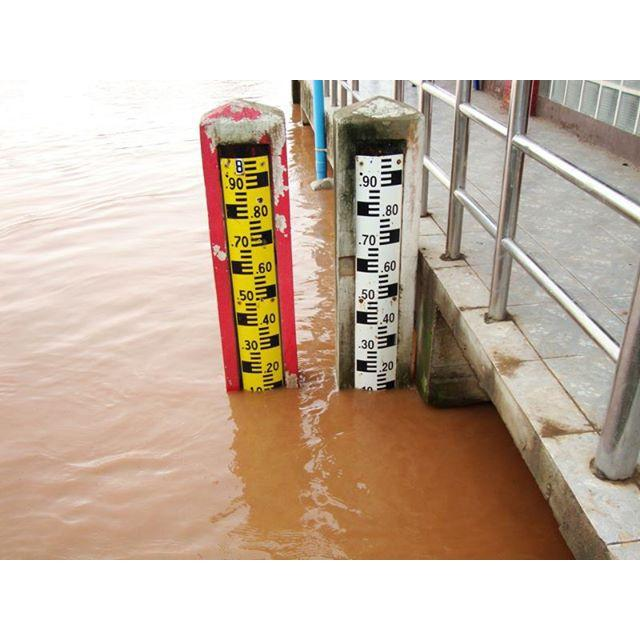ruler: (212, 147, 298, 401), (350, 146, 415, 401)
value: (354, 172, 380, 191), (352, 284, 378, 303), (254, 259, 280, 278), (354, 230, 378, 250), (248, 201, 272, 221), (379, 200, 402, 220), (233, 286, 258, 304), (227, 232, 252, 250), (378, 257, 400, 277), (237, 337, 262, 353), (258, 311, 282, 327), (353, 336, 377, 352), (222, 176, 247, 191), (378, 309, 398, 327), (262, 358, 284, 374), (377, 356, 397, 373), (235, 159, 246, 175)
